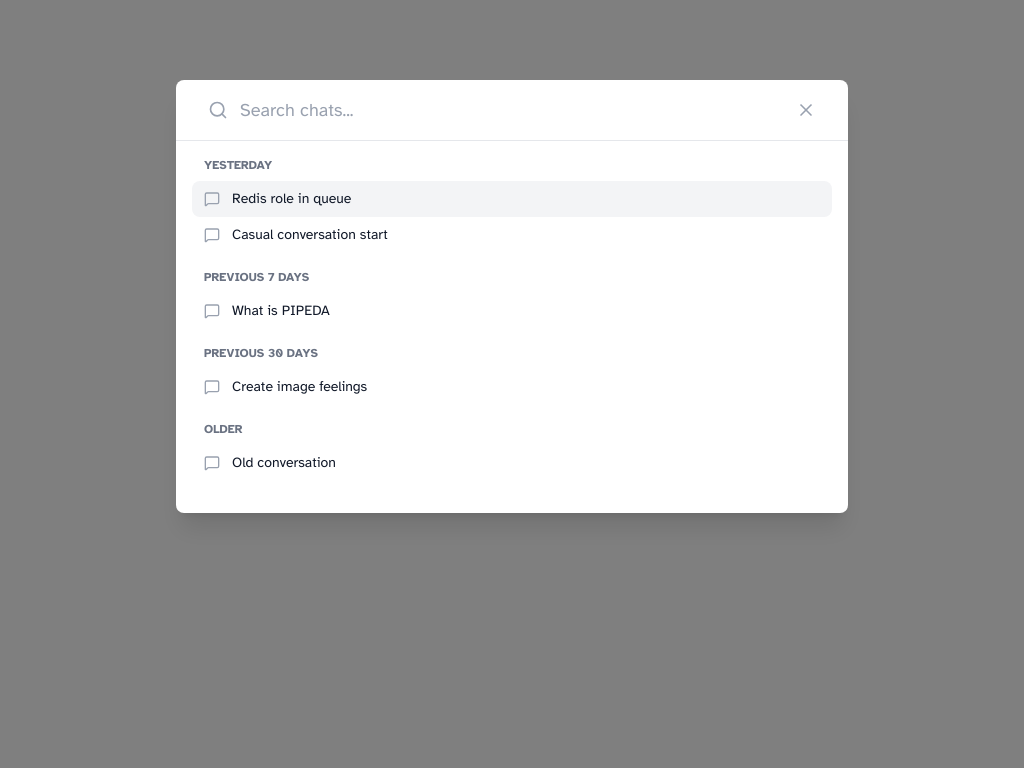
Scenario: ConversationSearchModal › Search Functionality › shows empty state when no results
Type "nonexistent query" into the field with placeholder "Search chats...".
click(512, 110); type("nonexistent query")  # box [200, 96, 824, 124]
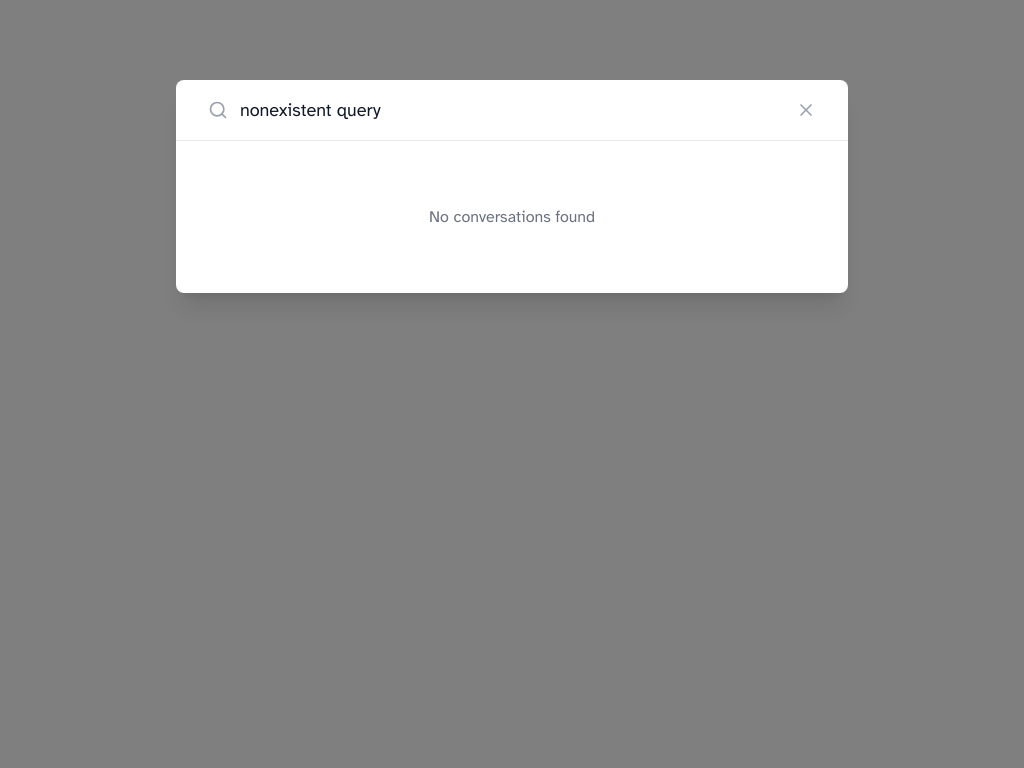
Expected: the text "No conversations found" is shown, [429, 207, 595, 227]
